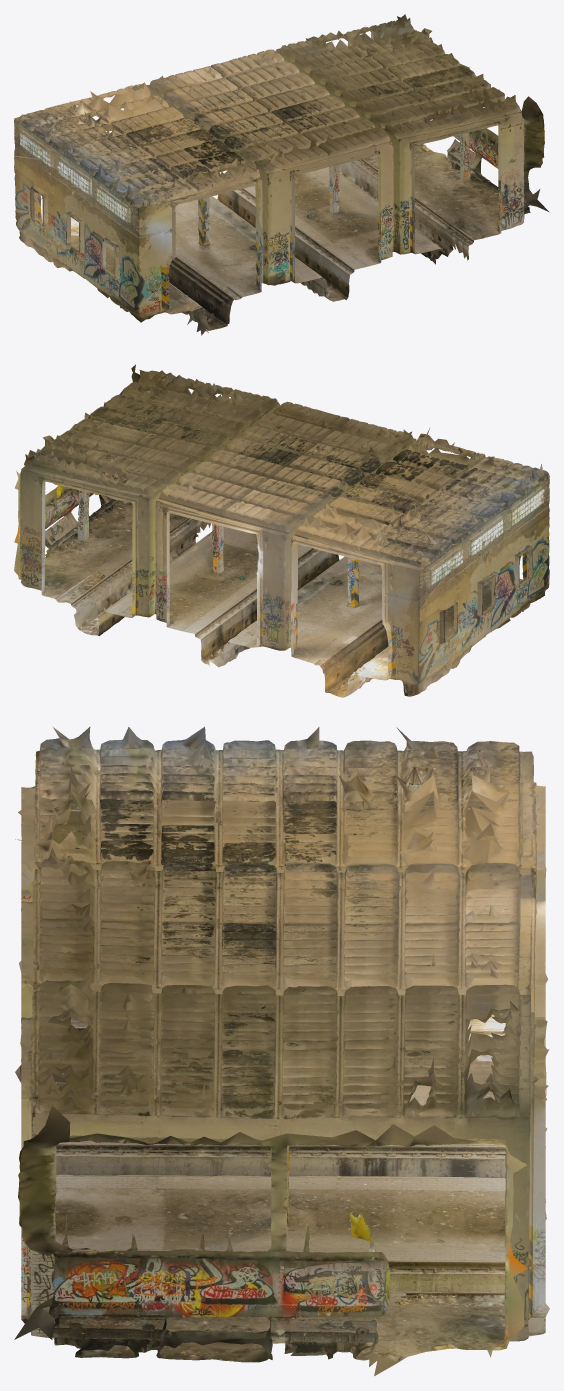
The model's file is scan_galpao_pichado.glb.
3 renders of one model, top to bottom at view 1: azimuth 30°, elevation 25°; view 2: azimuth 150°, elevation 25°; view 3: azimuth 270°, elevation 25°, orthographic. The views are drawn at different scales.
Visible parts, largest first — view 1: depo; view 2: depo; view 3: depo.
Boxes of the visible parts, x1,y1,x2,y2 form: depo: [14, 14, 549, 335]; depo: [14, 364, 549, 697]; depo: [14, 726, 549, 1376].
Bounding box in the file's own units: 18.24 × 6.59 × 10.35.
Materials: 8 (8 with a texture image).
